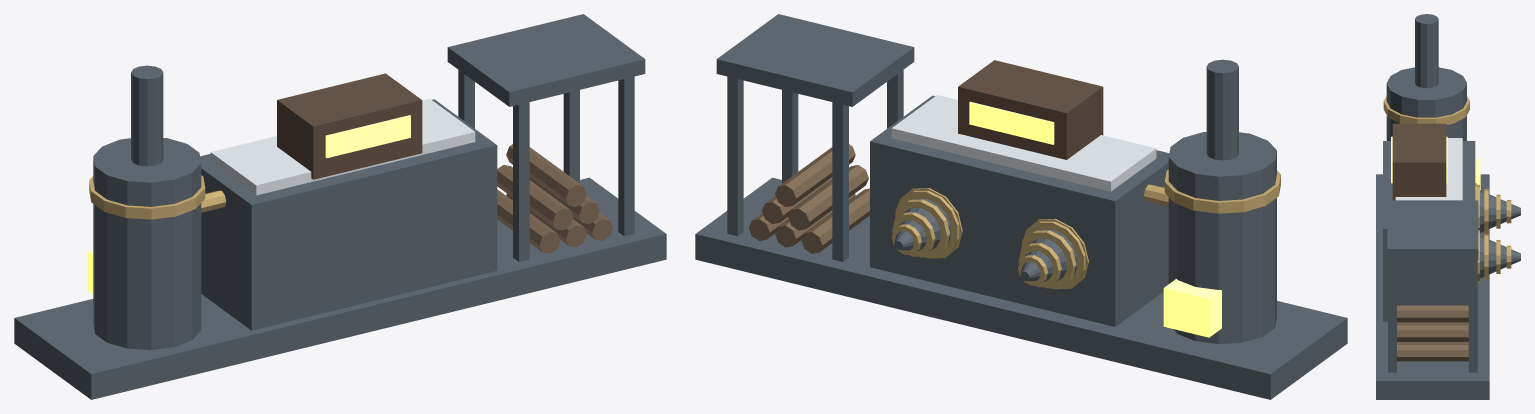
File: steam_wall_drill.glb
3 views of the same model, side by side, from view 1: azimuth 30°, elevation 25°; view 2: azimuth 150°, elevation 25°; view 3: azimuth 270°, elevation 25° (orthographic). The views are drawn at different scales.
Visible parts, largest first — view 1: SteamWallDrill; view 2: SteamWallDrill; view 3: SteamWallDrill.
Boxes of the visible parts, <box> form: SteamWallDrill: <box>14,14,666,399</box>; SteamWallDrill: <box>695,14,1347,399</box>; SteamWallDrill: <box>1376,14,1520,399</box>.
Bounding box in the file's own units: 6.56 × 3.06 × 1.94.
